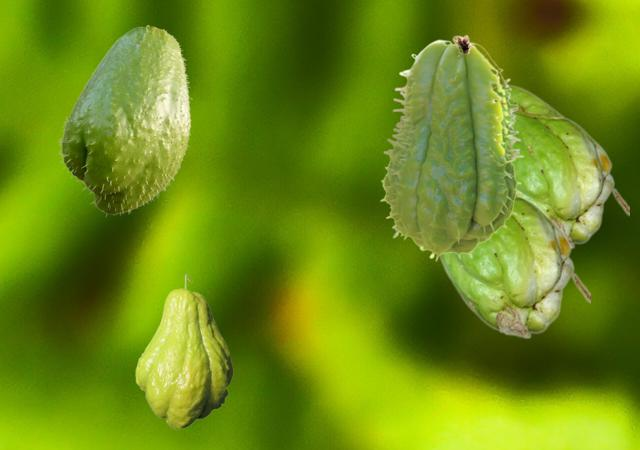sayote: (379, 34, 523, 261), (57, 25, 191, 216), (494, 84, 628, 248), (439, 194, 589, 338), (135, 273, 232, 428)
